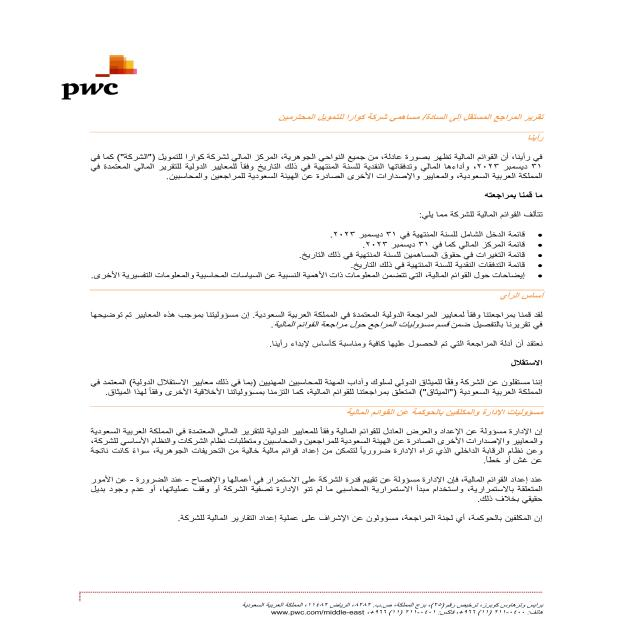auditor_report: (463, 105, 566, 131)
